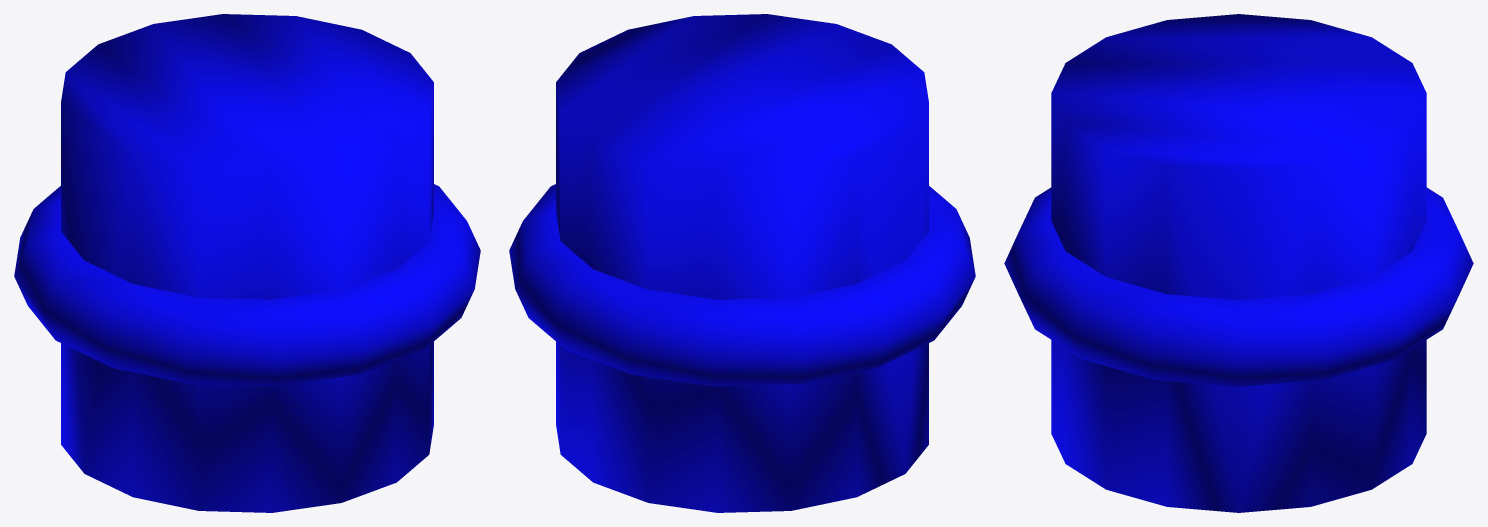
Rendered from ringAndTube2.obj.
3 views of the same model, side by side, from view 1: azimuth 30°, elevation 25°; view 2: azimuth 150°, elevation 25°; view 3: azimuth 270°, elevation 25° (orthographic).
Visible parts, largest first — view 1: Cylinder5, Torus5; view 2: Cylinder5, Torus5; view 3: Cylinder5, Torus5.
Part boxes in pixels (bbox=[...]): Cylinder5: bbox=[61, 14, 433, 512]; Torus5: bbox=[14, 184, 480, 386]; Cylinder5: bbox=[556, 14, 928, 512]; Torus5: bbox=[509, 184, 975, 386]; Cylinder5: bbox=[1051, 14, 1426, 512]; Torus5: bbox=[1004, 187, 1473, 386].
Bounding box in the file's own units: 2.5 × 2 × 2.5.
